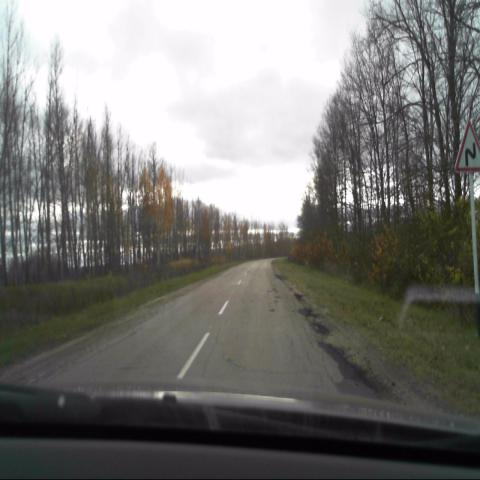1_12: (454, 121, 480, 174)
